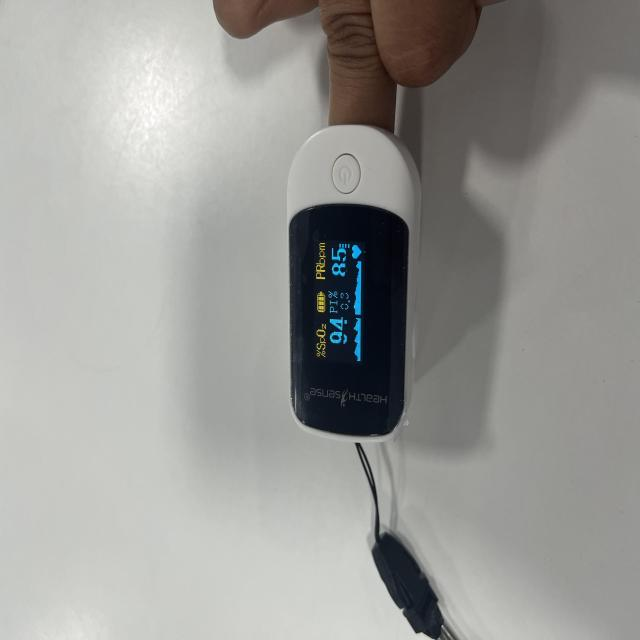spo2: (286, 126, 422, 443)
